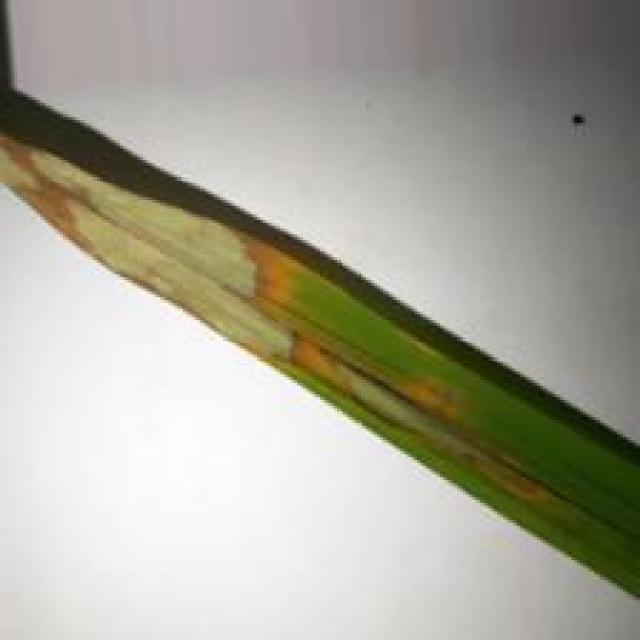Leaf_Scald: (0, 136, 561, 512)
